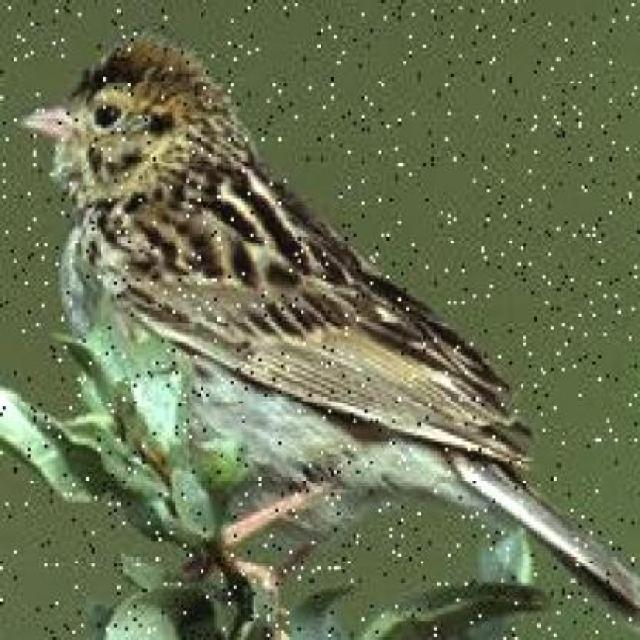Bird: (19, 39, 615, 558)
